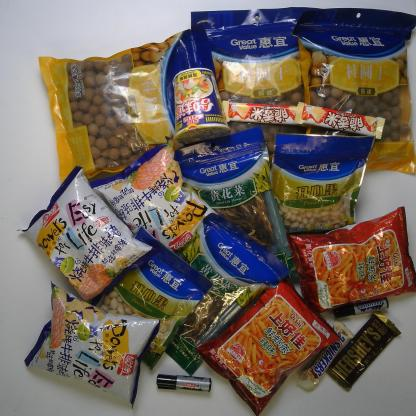Chocolate: (325, 309, 401, 392), (295, 318, 354, 391), (294, 101, 386, 139), (222, 100, 313, 127)
Dried Food: (38, 23, 232, 184), (113, 212, 292, 377), (162, 127, 298, 301), (190, 7, 314, 175), (293, 6, 416, 175)
Dried Fruit: (77, 226, 213, 369), (260, 132, 376, 238)
Instant Noodles: (172, 67, 232, 144)
Puffed Food: (196, 273, 341, 414), (17, 166, 155, 306), (23, 281, 160, 411), (89, 137, 225, 267), (284, 206, 416, 320)
Stationery: (334, 297, 390, 318), (156, 373, 212, 393)
